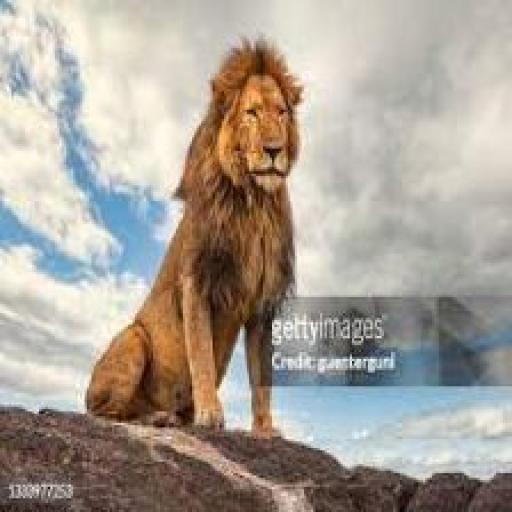lion: (57, 23, 309, 466)
